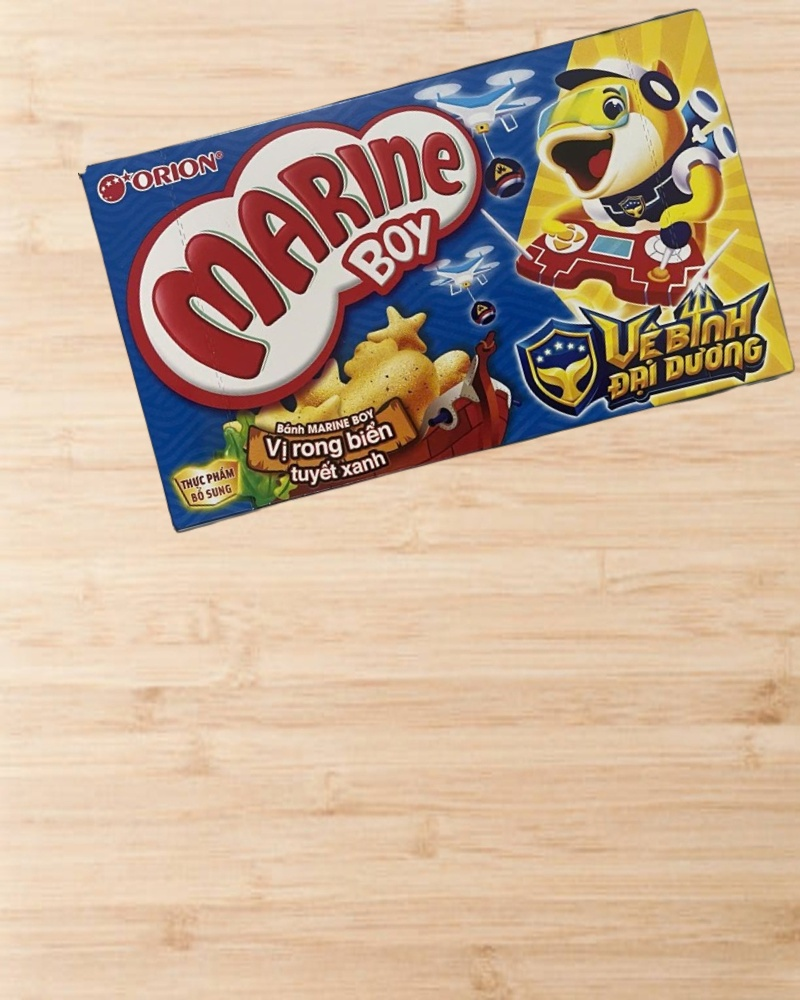Marine: (80, 2, 800, 538)
